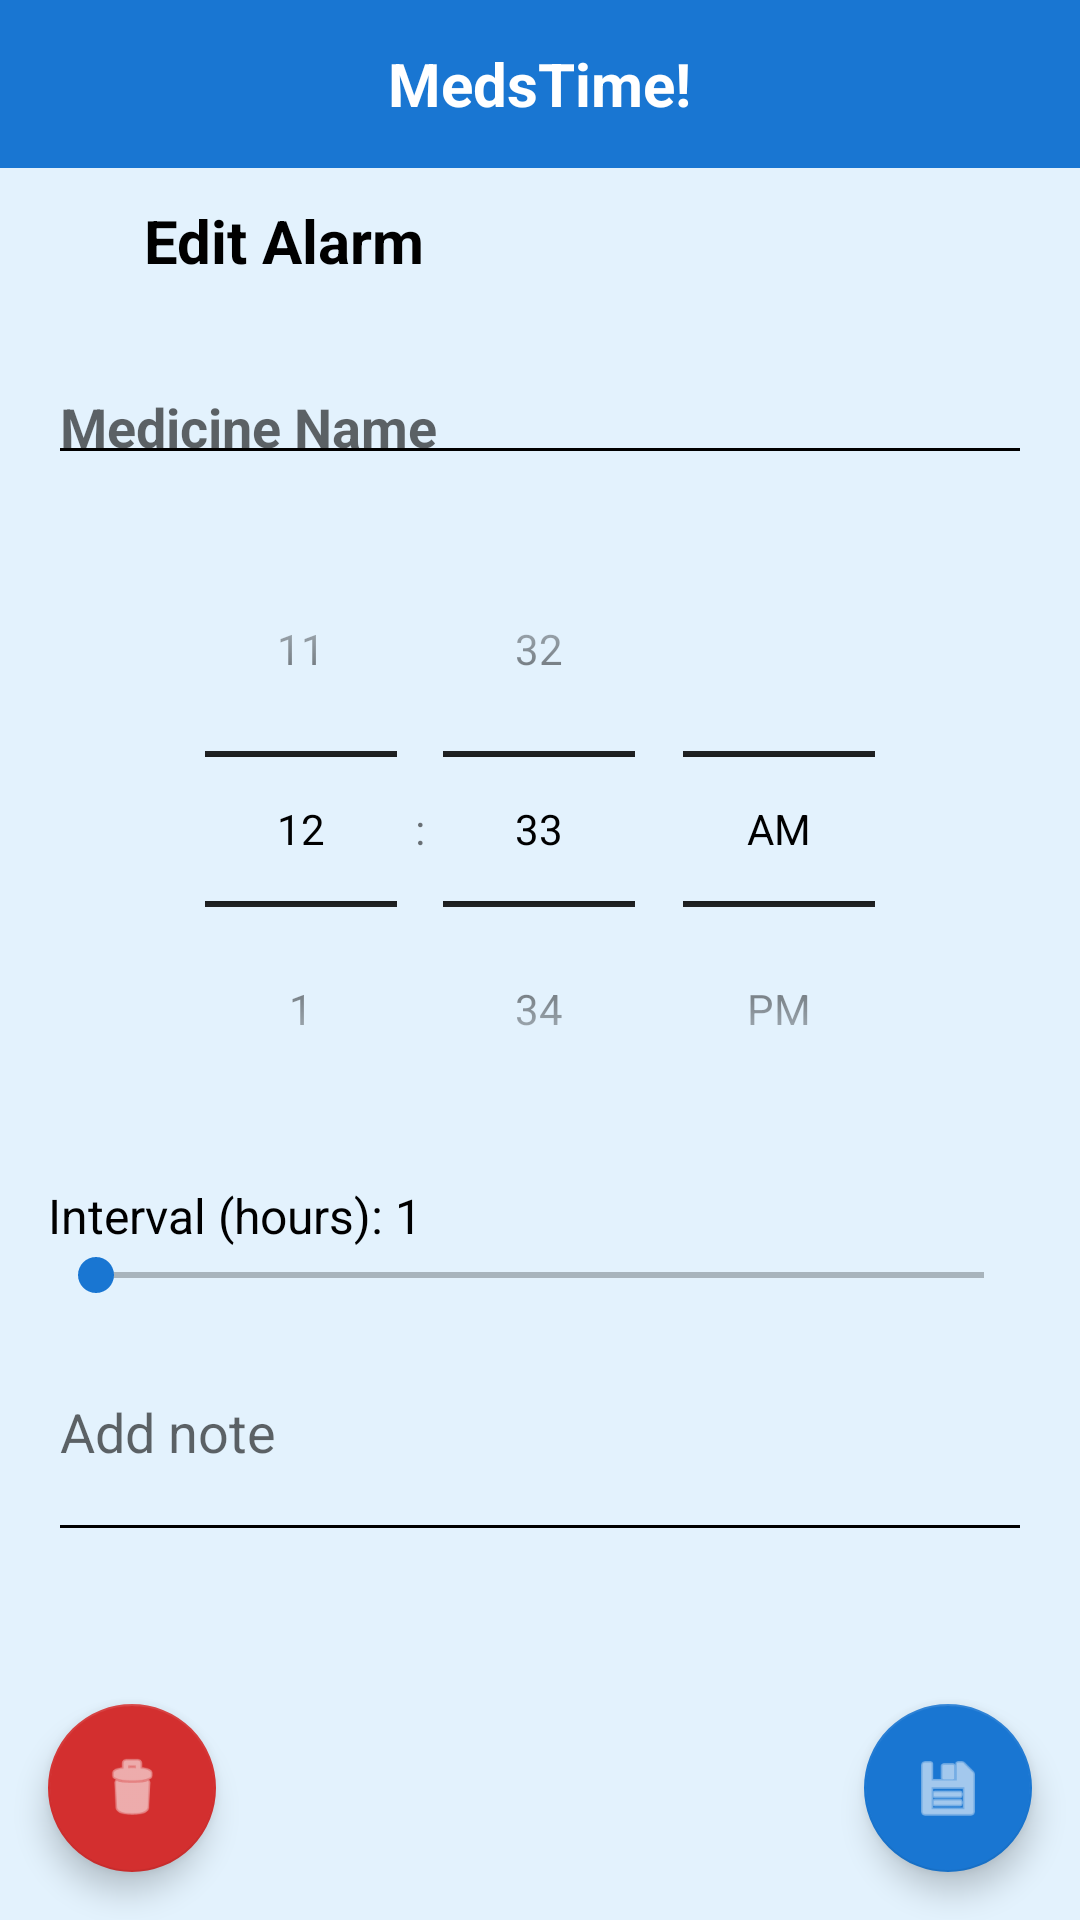

Icons on this 1080×1920 Android screen, each with its box as bbox=[x1, y1, x2, y2]:
delete: bbox=[48, 1704, 216, 1872]
save: bbox=[864, 1704, 1032, 1872]
